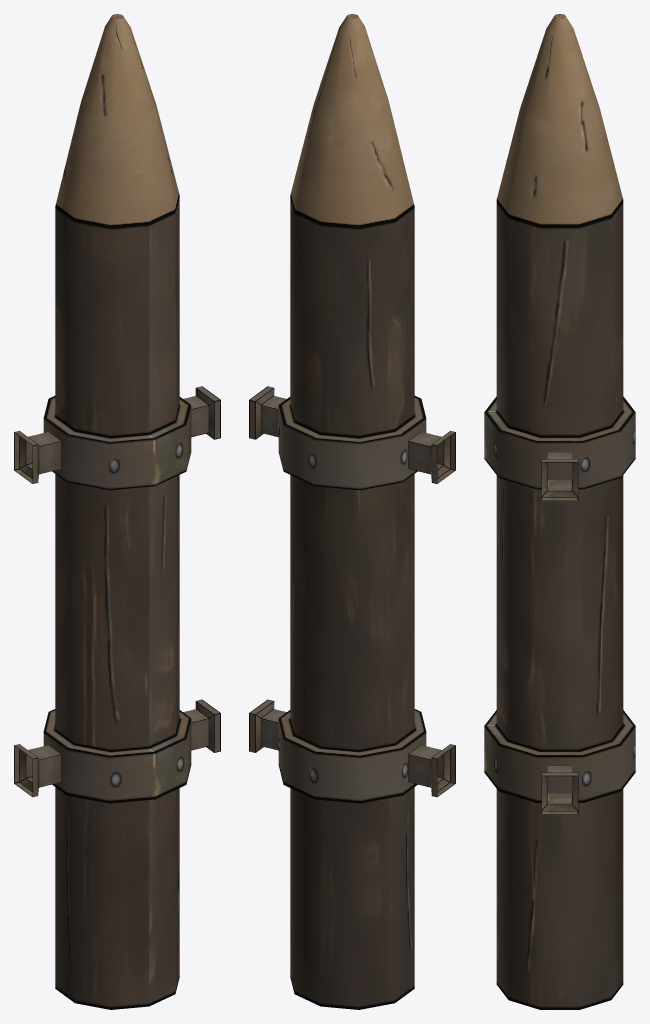
File: wall_stake_straight.fbx
The picture shows the model from 3 angles, left to right: view 1: azimuth 30°, elevation 25°; view 2: azimuth 150°, elevation 25°; view 3: azimuth 270°, elevation 25°; orthographic projection.
Visible parts, largest first — view 1: wall_stake_straight; view 2: wall_stake_straight; view 3: wall_stake_straight.
Boxes of the visible parts, x1,y1,x2,y2 form: wall_stake_straight: (14,14,220,1009); wall_stake_straight: (249,14,455,1009); wall_stake_straight: (484,14,635,1009).
Bounding box in the file's own units: 82.4 × 404 × 57.2.
1 material, 1 textured.
